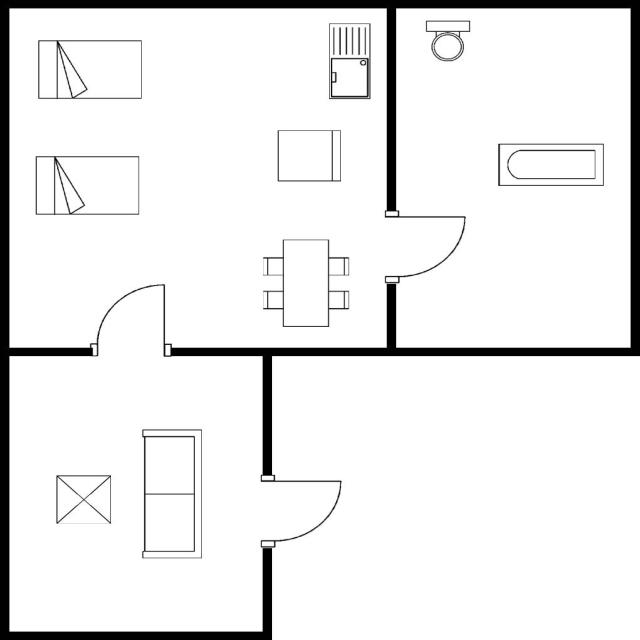bed: (30, 151, 143, 219), (35, 38, 146, 104)
coffee_table: (52, 472, 115, 529)
dining_table: (259, 233, 353, 331)
large_sink: (420, 16, 473, 65)
large_sofa: (134, 425, 210, 564)
sink: (324, 20, 375, 103)
small_sofa: (273, 126, 346, 186)
tub: (494, 140, 610, 192)
